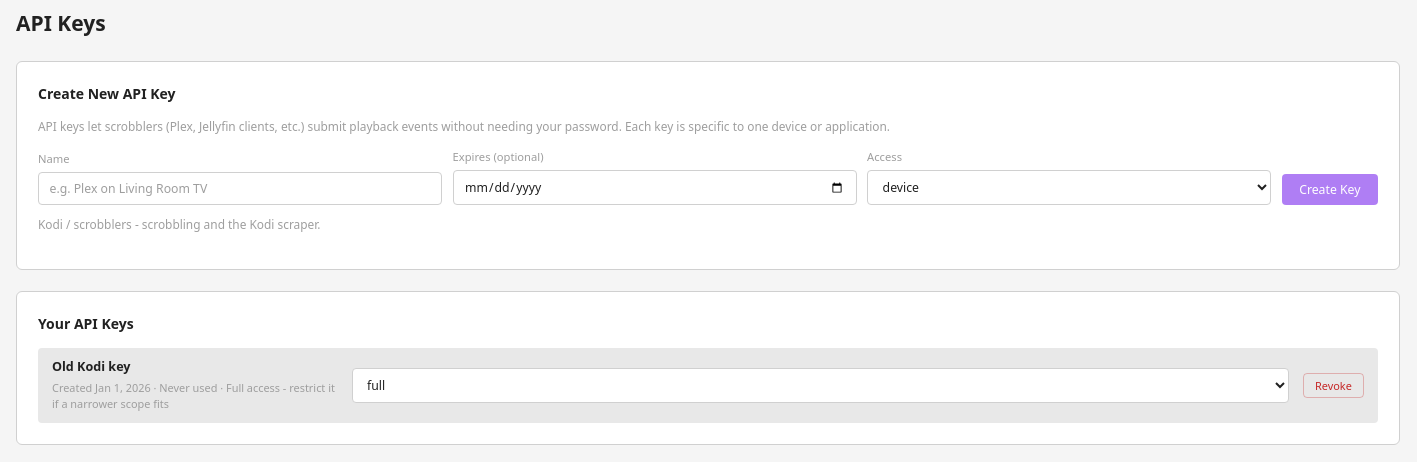
Test: ApiKeysPage scopes › flags an existing full-access key and lets it be narrowed
Expected: the text "Full access - restrict it" is shown, [52,380,335,411]
Select "device" in the dropdown named "Access for Old Kodi key" at (820, 385), box [352,368,1289,403]
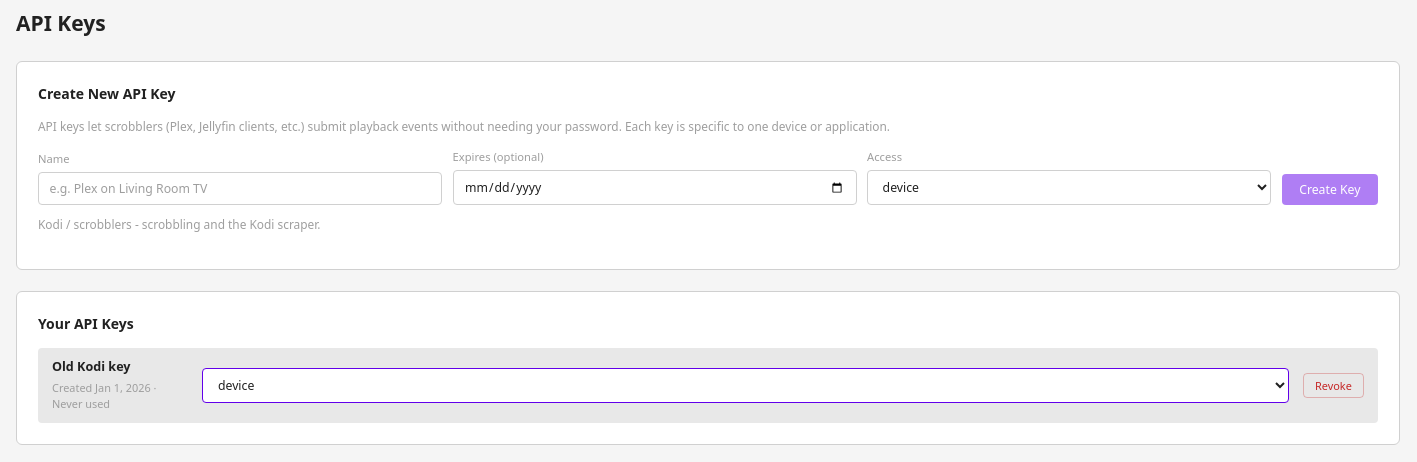
Expected: the text "Full access - restrict it" is gone
